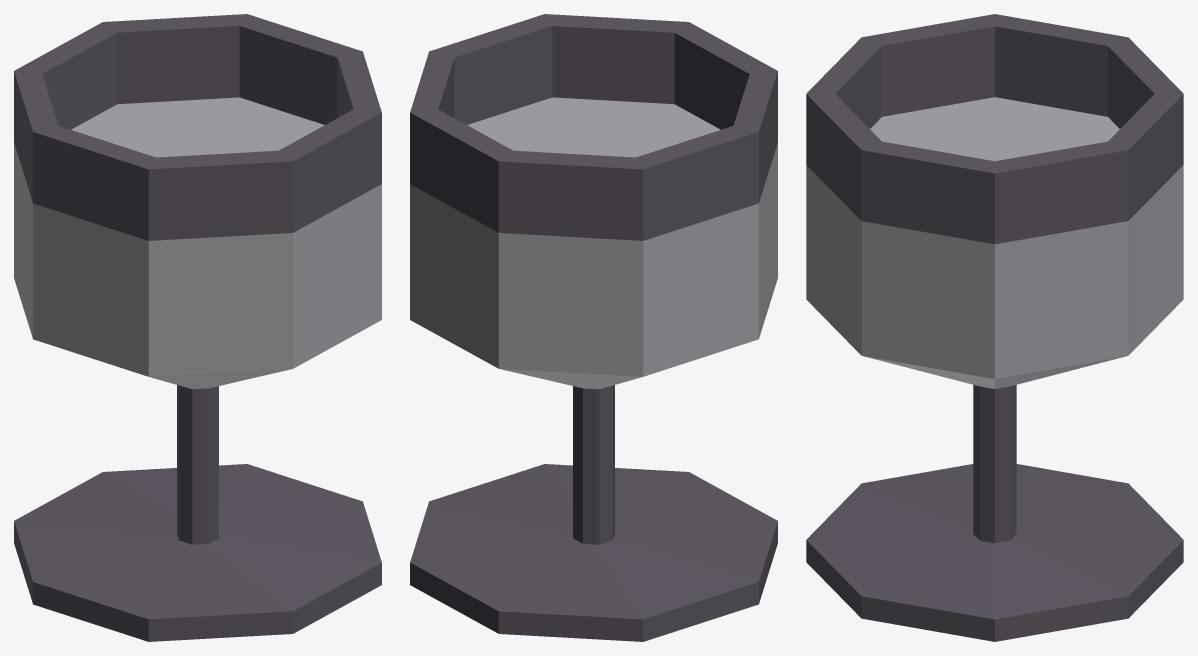
File: Wine_Glass.fbx
The picture shows the model from 3 angles, left to right: view 1: azimuth 30°, elevation 25°; view 2: azimuth 150°, elevation 25°; view 3: azimuth 270°, elevation 25°; orthographic projection.
Parts seen in each view (by area): view 1: Wine_Glass; view 2: Wine_Glass; view 3: Wine_Glass.
Boxes of the visible parts, left/top/right/bottom form: Wine_Glass: left=14, top=14, right=381, bottom=641; Wine_Glass: left=410, top=14, right=777, bottom=641; Wine_Glass: left=806, top=14, right=1183, bottom=641.
Size of the model in its own units: 20.98 by 28.73 by 20.98.
